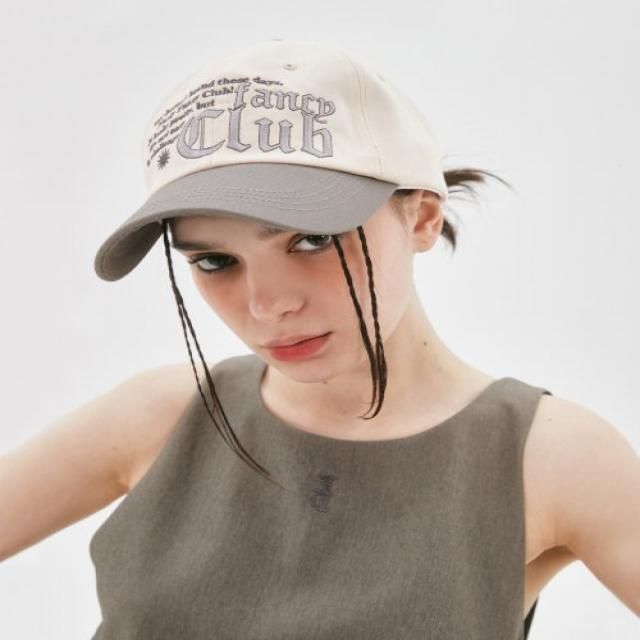hat: (83, 28, 463, 286)
